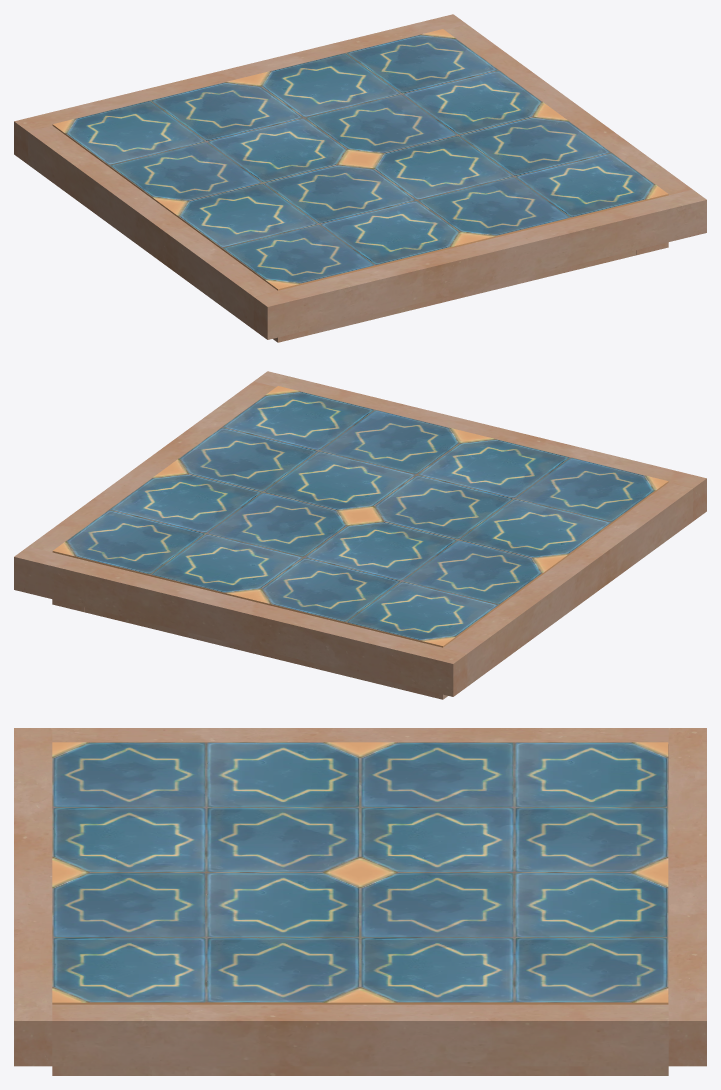
3 views of the same model, one above another, from view 1: azimuth 30°, elevation 25°; view 2: azimuth 150°, elevation 25°; view 3: azimuth 270°, elevation 25° (orthographic). The views are drawn at different scales.
Visible parts, largest first — view 1: SM_BB_T4_Floor_Large_01_LOD0; view 2: SM_BB_T4_Floor_Large_01_LOD0; view 3: SM_BB_T4_Floor_Large_01_LOD0.
Boxes of the visible parts, x1,y1,x2,y2 form: SM_BB_T4_Floor_Large_01_LOD0: (14, 14, 706, 342); SM_BB_T4_Floor_Large_01_LOD0: (14, 371, 706, 699); SM_BB_T4_Floor_Large_01_LOD0: (14, 728, 706, 1075).
Bounding box in the file's own units: 3.38 × 0.3933 × 3.38.
Materials: 2 (2 with a texture image).
